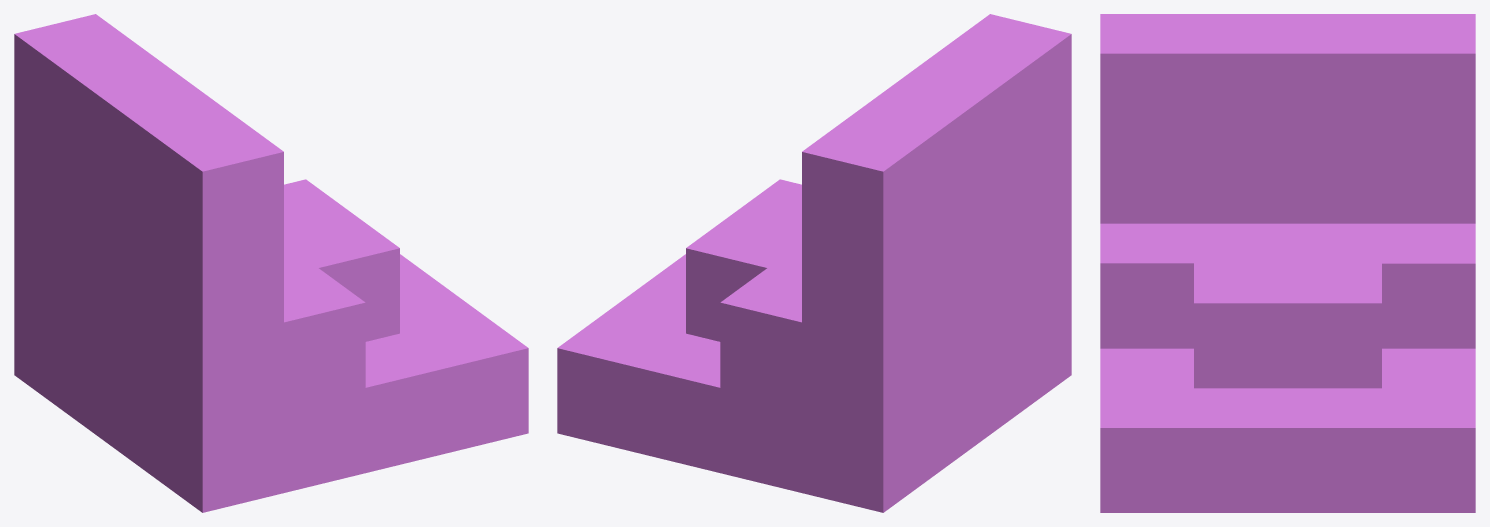
File: vista_3.glb
3 views of the same model, side by side, from view 1: azimuth 30°, elevation 25°; view 2: azimuth 150°, elevation 25°; view 3: azimuth 270°, elevation 25° (orthographic).
Parts seen in each view (by area): view 1: Object_2; view 2: Object_2; view 3: Object_2.
Part boxes in pixels (x1,y1,x2,y2): Object_2: (14, 14, 528, 512); Object_2: (557, 14, 1071, 512); Object_2: (1100, 14, 1475, 512).
Bounding box in the file's own units: 400 × 400 × 400.
